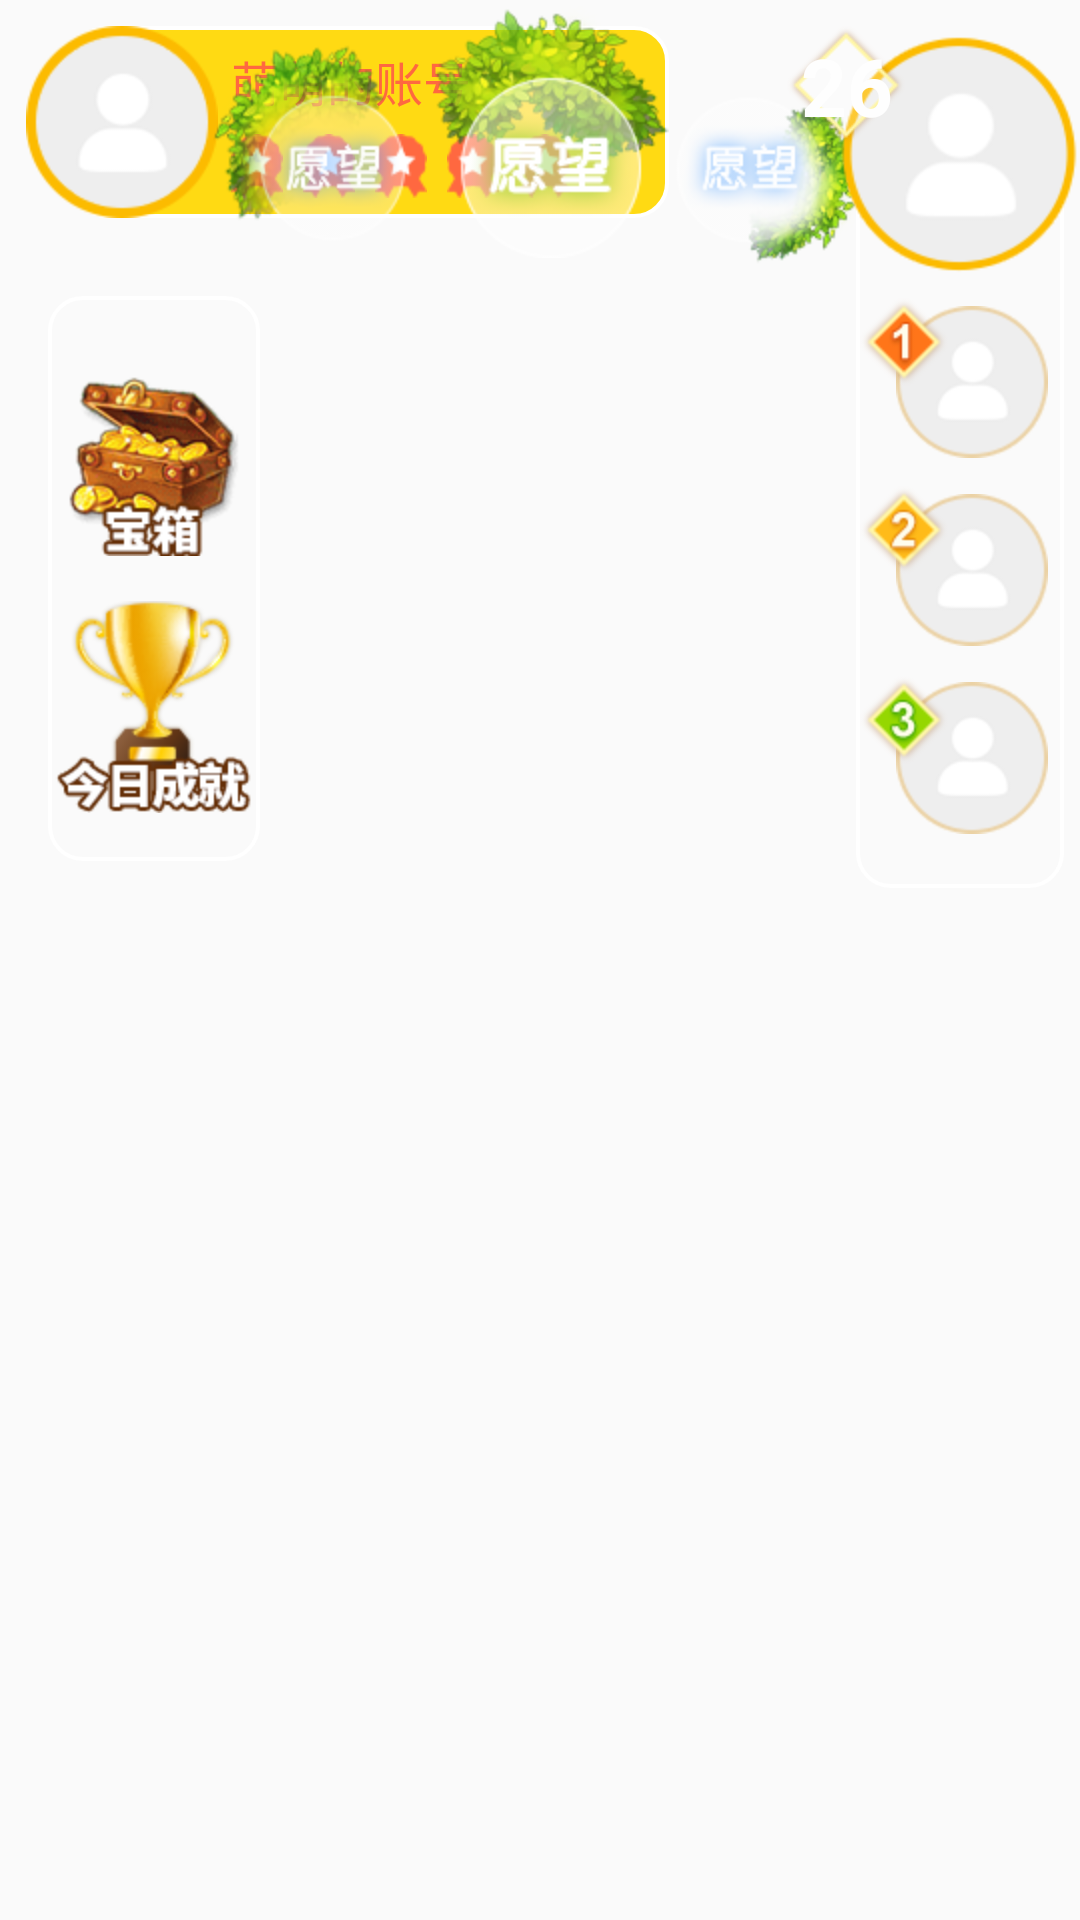

Named icons in this screenshot (1080px×1920px) and their bounding boxes, rect(x1, y1, x2, y2):
person single: rect(26, 26, 218, 218)
